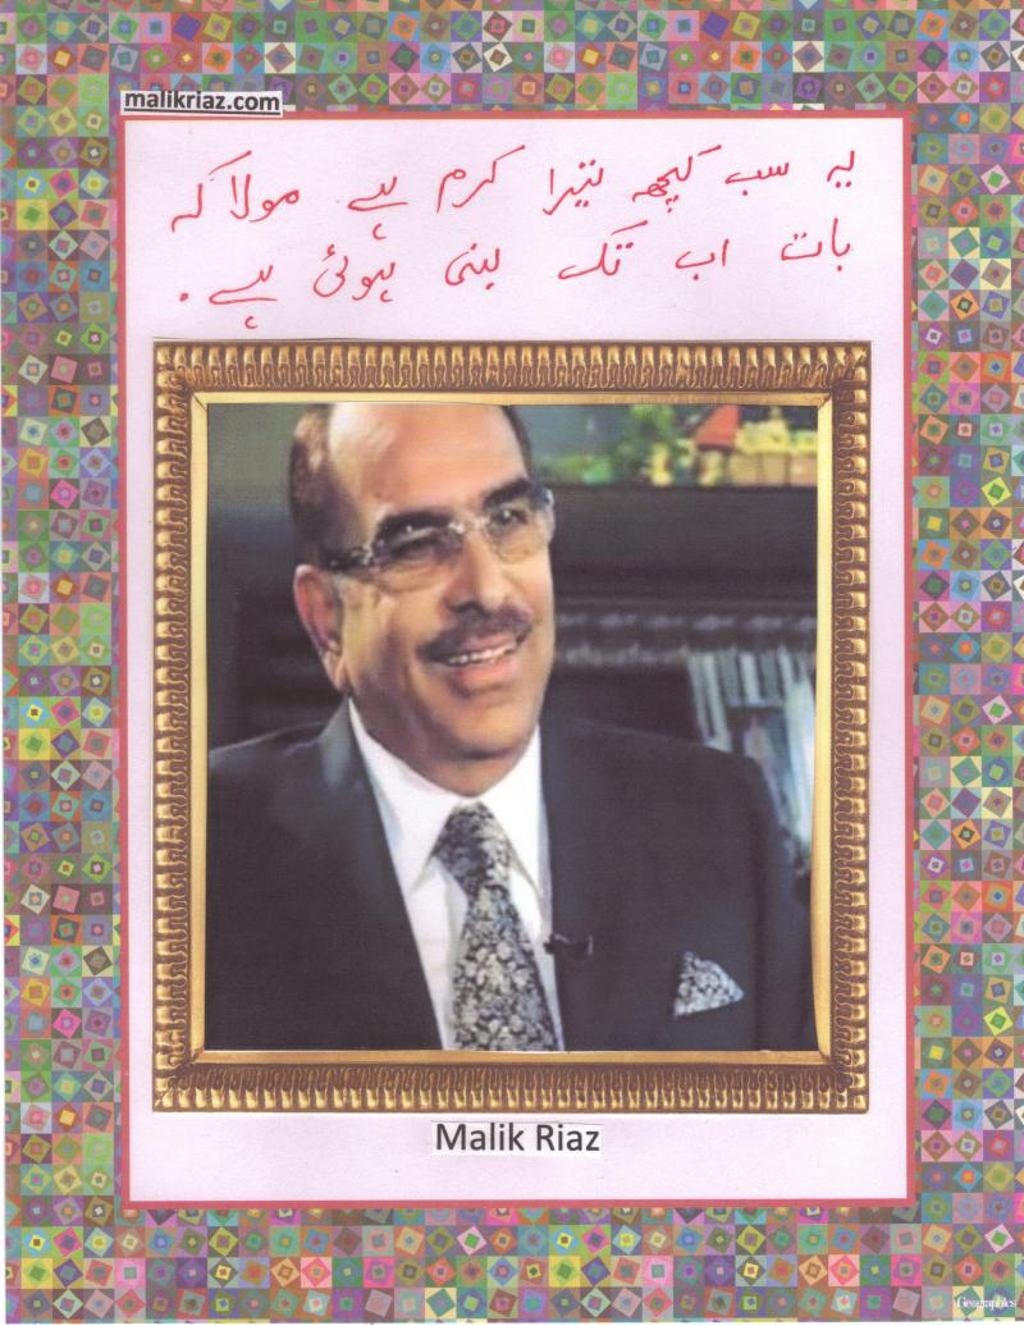face: (339, 406, 554, 755)
